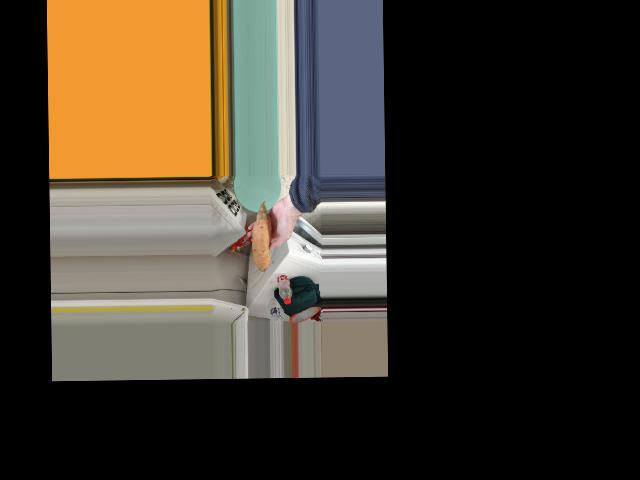sweet_potato: (254, 215, 276, 263)
